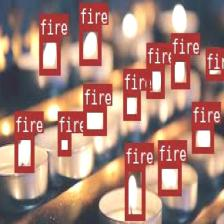fire: (125, 165, 144, 219), (78, 24, 100, 64), (38, 35, 60, 73), (14, 132, 34, 171), (158, 161, 180, 195), (82, 105, 106, 134), (191, 123, 214, 152), (170, 54, 189, 88), (146, 64, 164, 98), (204, 48, 224, 78), (122, 90, 140, 120), (57, 133, 70, 155)
